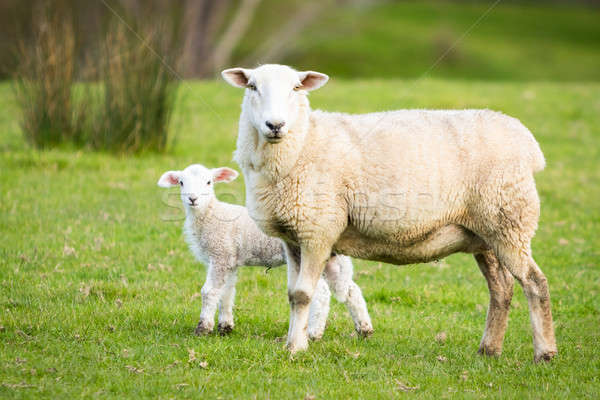koyun: (243, 58, 562, 362), (155, 160, 239, 341)
